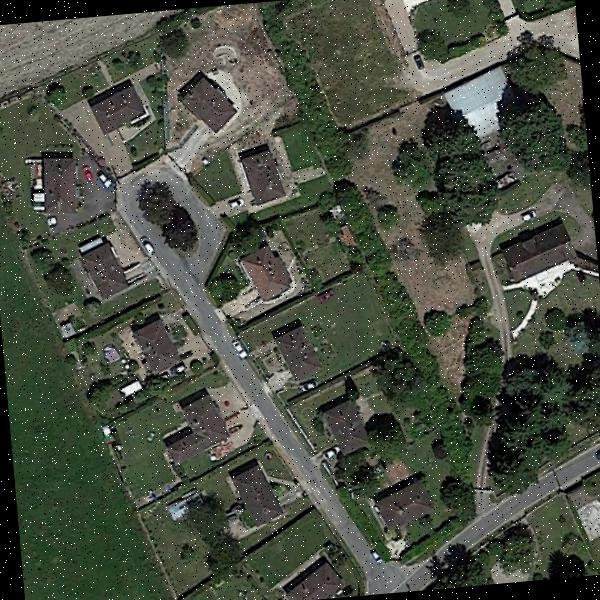Buildings: (163, 388, 234, 466), (498, 216, 578, 280), (79, 240, 136, 298), (272, 555, 345, 600), (230, 465, 280, 530), (180, 76, 233, 130), (272, 329, 322, 385), (92, 87, 149, 136), (326, 394, 369, 456), (36, 150, 76, 214), (246, 146, 284, 208), (138, 320, 180, 373), (244, 255, 292, 297), (460, 78, 507, 119), (384, 494, 428, 517)
